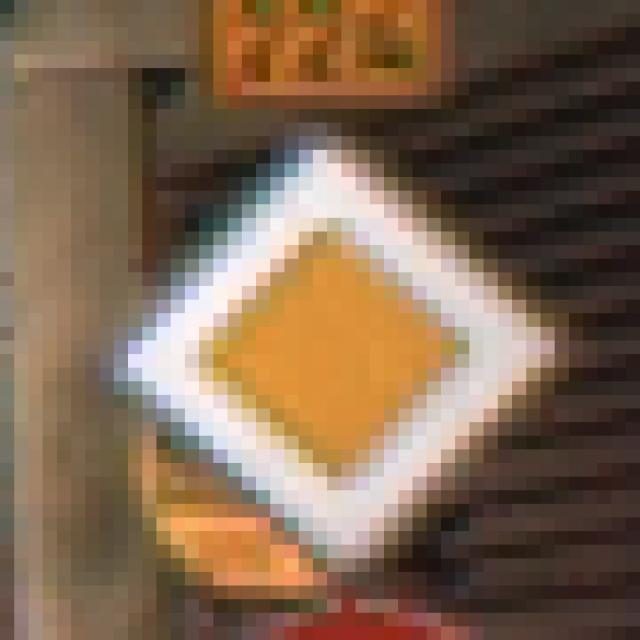Main Road: (86, 83, 570, 573)
